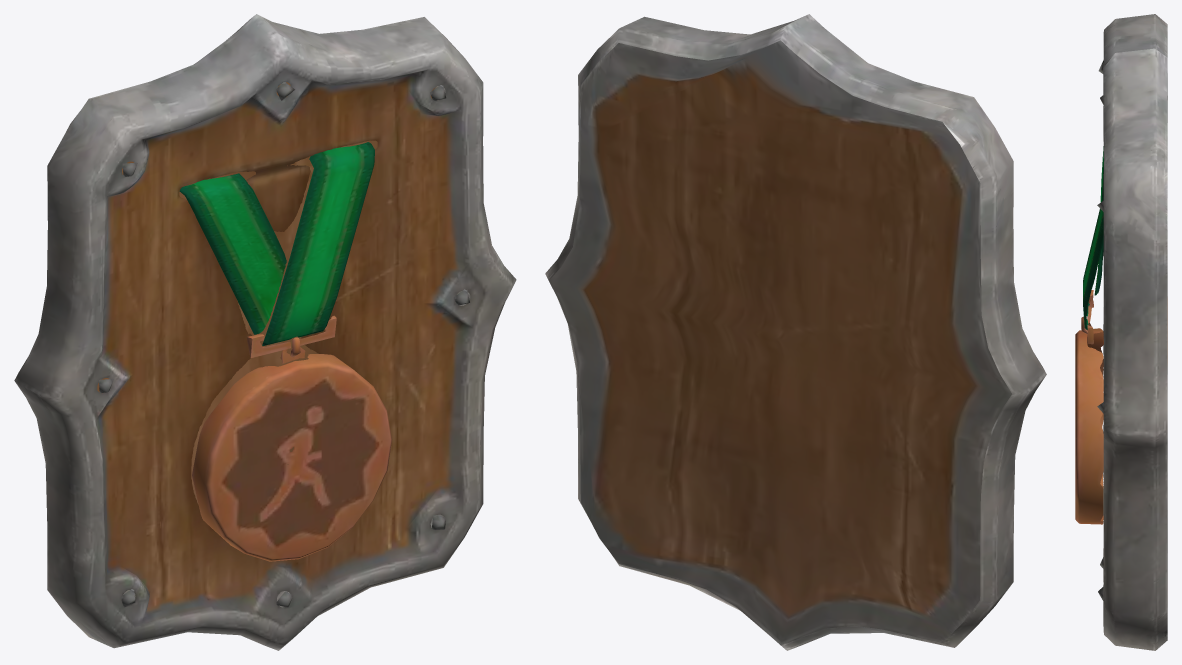
The picture shows the model from 3 angles, left to right: view 1: azimuth 30°, elevation 25°; view 2: azimuth 150°, elevation 25°; view 3: azimuth 270°, elevation 25°; orthographic projection. The views are drawn at different scales.
Parts seen in each view (by area): view 1: SM_Agility_Medal_Bronze_01_LOD0; view 2: SM_Agility_Medal_Bronze_01_LOD0; view 3: SM_Agility_Medal_Bronze_01_LOD0.
Part boxes in pixels (x1,y1,x2,y2): SM_Agility_Medal_Bronze_01_LOD0: (14,14,516,650); SM_Agility_Medal_Bronze_01_LOD0: (545,14,1046,650); SM_Agility_Medal_Bronze_01_LOD0: (1075,14,1167,650).
Size of the model in its own units: 0.707 by 0.873 by 0.1282.
1 material, 1 textured.
